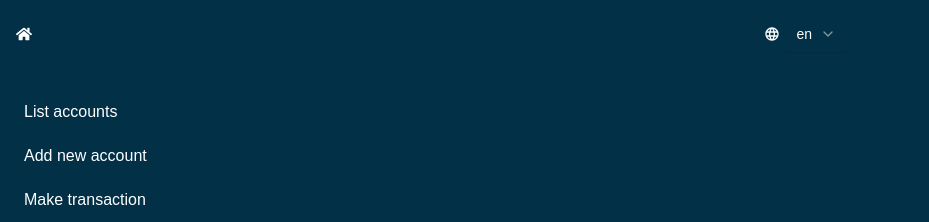
Test: Main page › should change local langugage
The image size is (929, 222).
Expected: the link "List accounts" is shown, left=24, top=103, right=117, bottom=120
Expected: the link "Add new account" is shown, left=24, top=147, right=147, bottom=164
// change language
Click the dropdown labelled "en": coordinates (816, 34) left=784, top=16, right=848, bottom=52
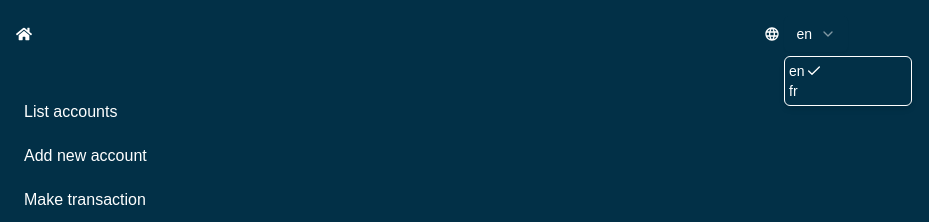
Click the text "fr": coordinates (794, 91) left=789, top=81, right=798, bottom=101
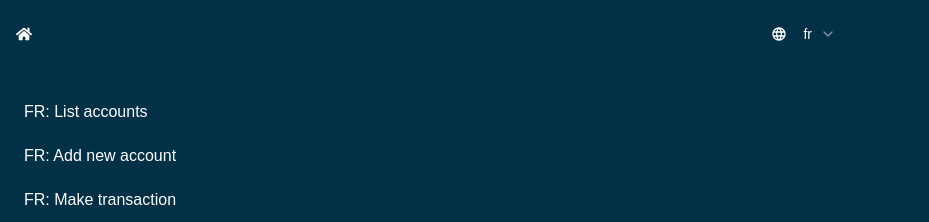
Result: the link "FR: List accounts" is shown at left=24, top=103, right=148, bottom=120
Result: the link "FR: Add new account" is shown at left=24, top=147, right=176, bottom=164
